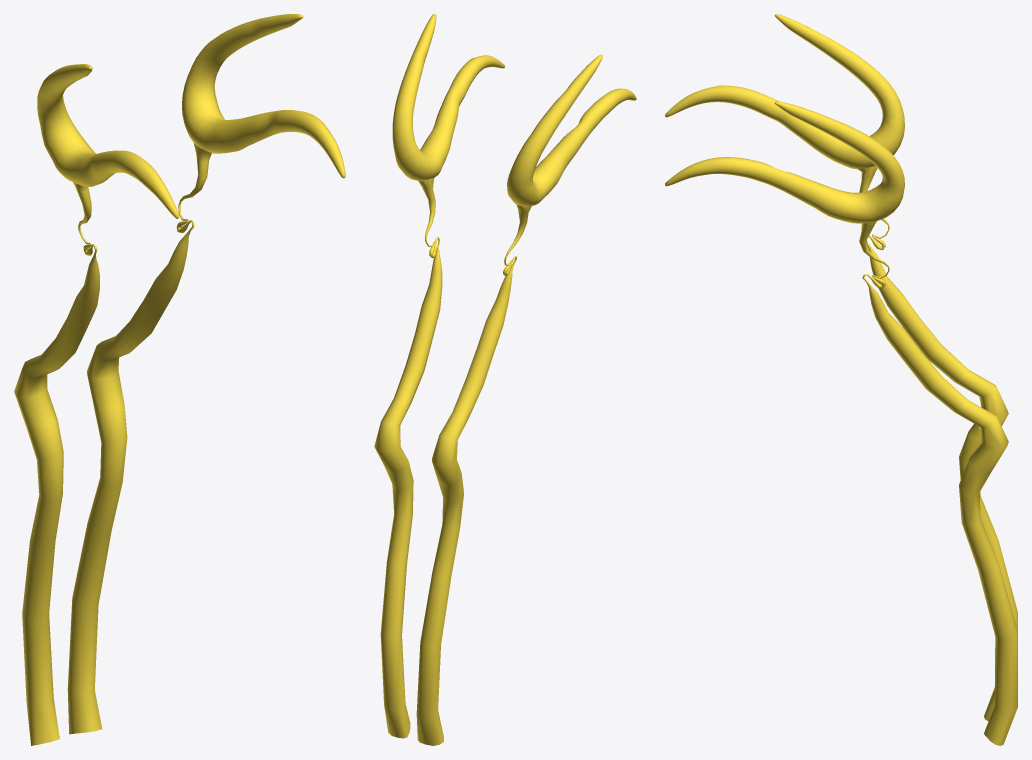
Rendered from 男性_神经系统_杏仁核.fbx.
3 views of the same model, side by side, from view 1: azimuth 30°, elevation 25°; view 2: azimuth 150°, elevation 25°; view 3: azimuth 270°, elevation 25° (orthographic). The views are drawn at different scales.
Visible parts, largest first — view 1: 男性_神经系统_杏仁核; view 2: 男性_神经系统_杏仁核; view 3: 男性_神经系统_杏仁核.
Boxes of the visible parts, x1,y1,x2,y2 form: 男性_神经系统_杏仁核: (14, 14, 345, 745); 男性_神经系统_杏仁核: (374, 14, 636, 745); 男性_神经系统_杏仁核: (665, 14, 1017, 745).
Bounding box in the file's own units: 2.58 × 9.09 × 4.3.
